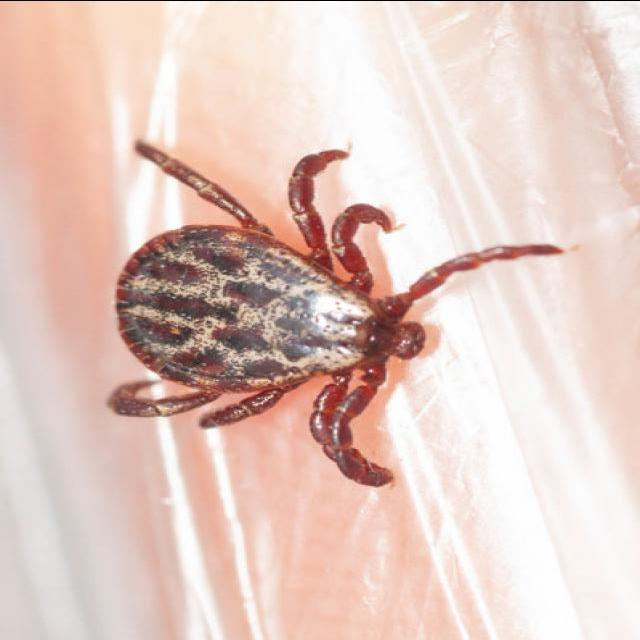Dermacentor Reticulatus-M: (107, 141, 566, 488)
